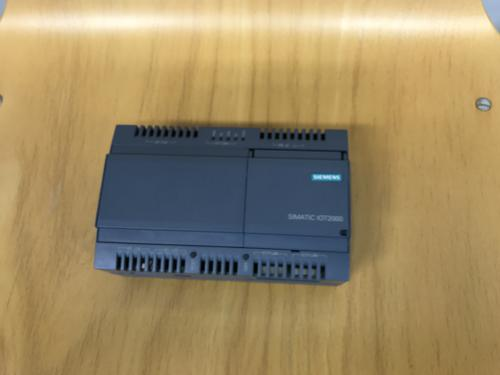device: (95, 125, 351, 287)
